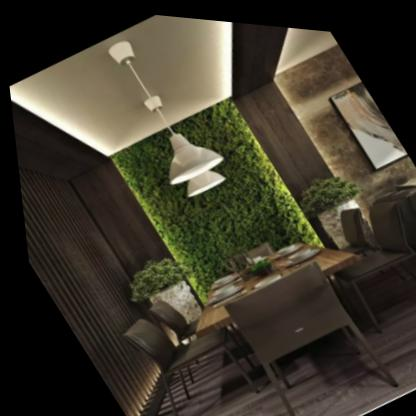Dining Table: (103, 146, 416, 416)
Wall Panel: (13, 150, 165, 416)
Wooden floor: (181, 291, 416, 416)
